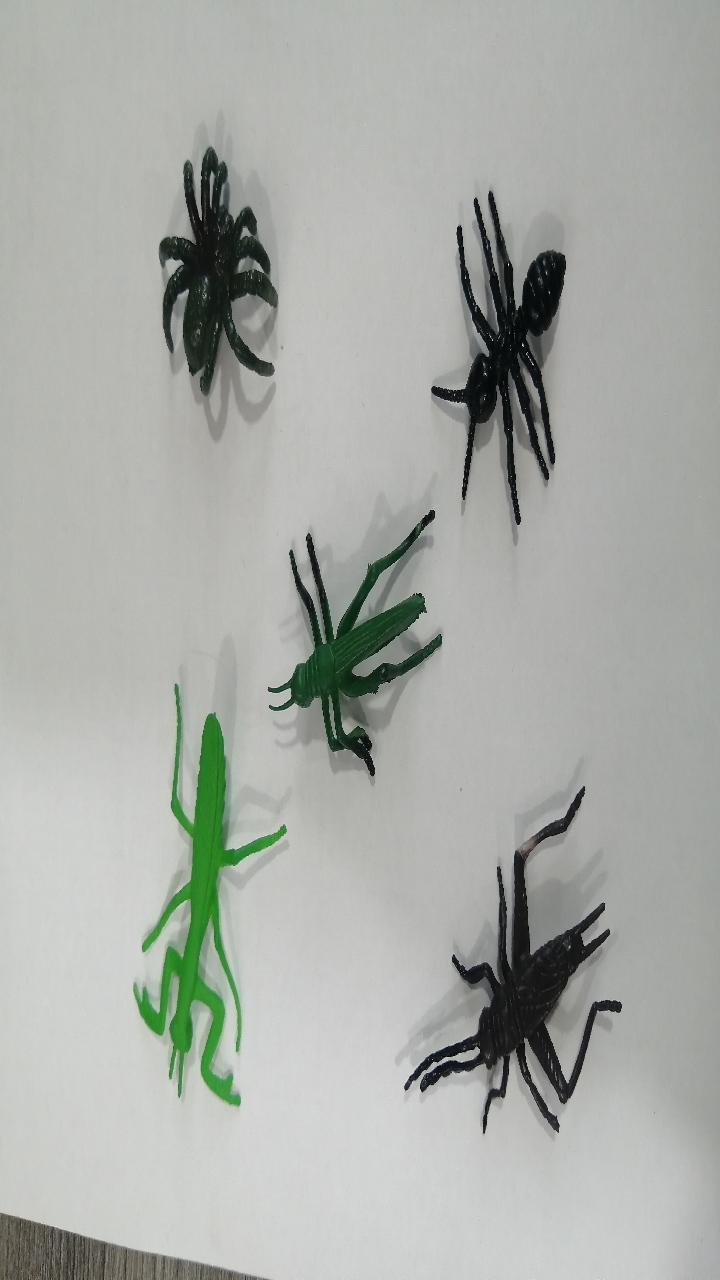intruso: (389, 765, 644, 1177), (97, 665, 314, 1139), (243, 491, 504, 811), (397, 159, 588, 540), (111, 117, 312, 463)
